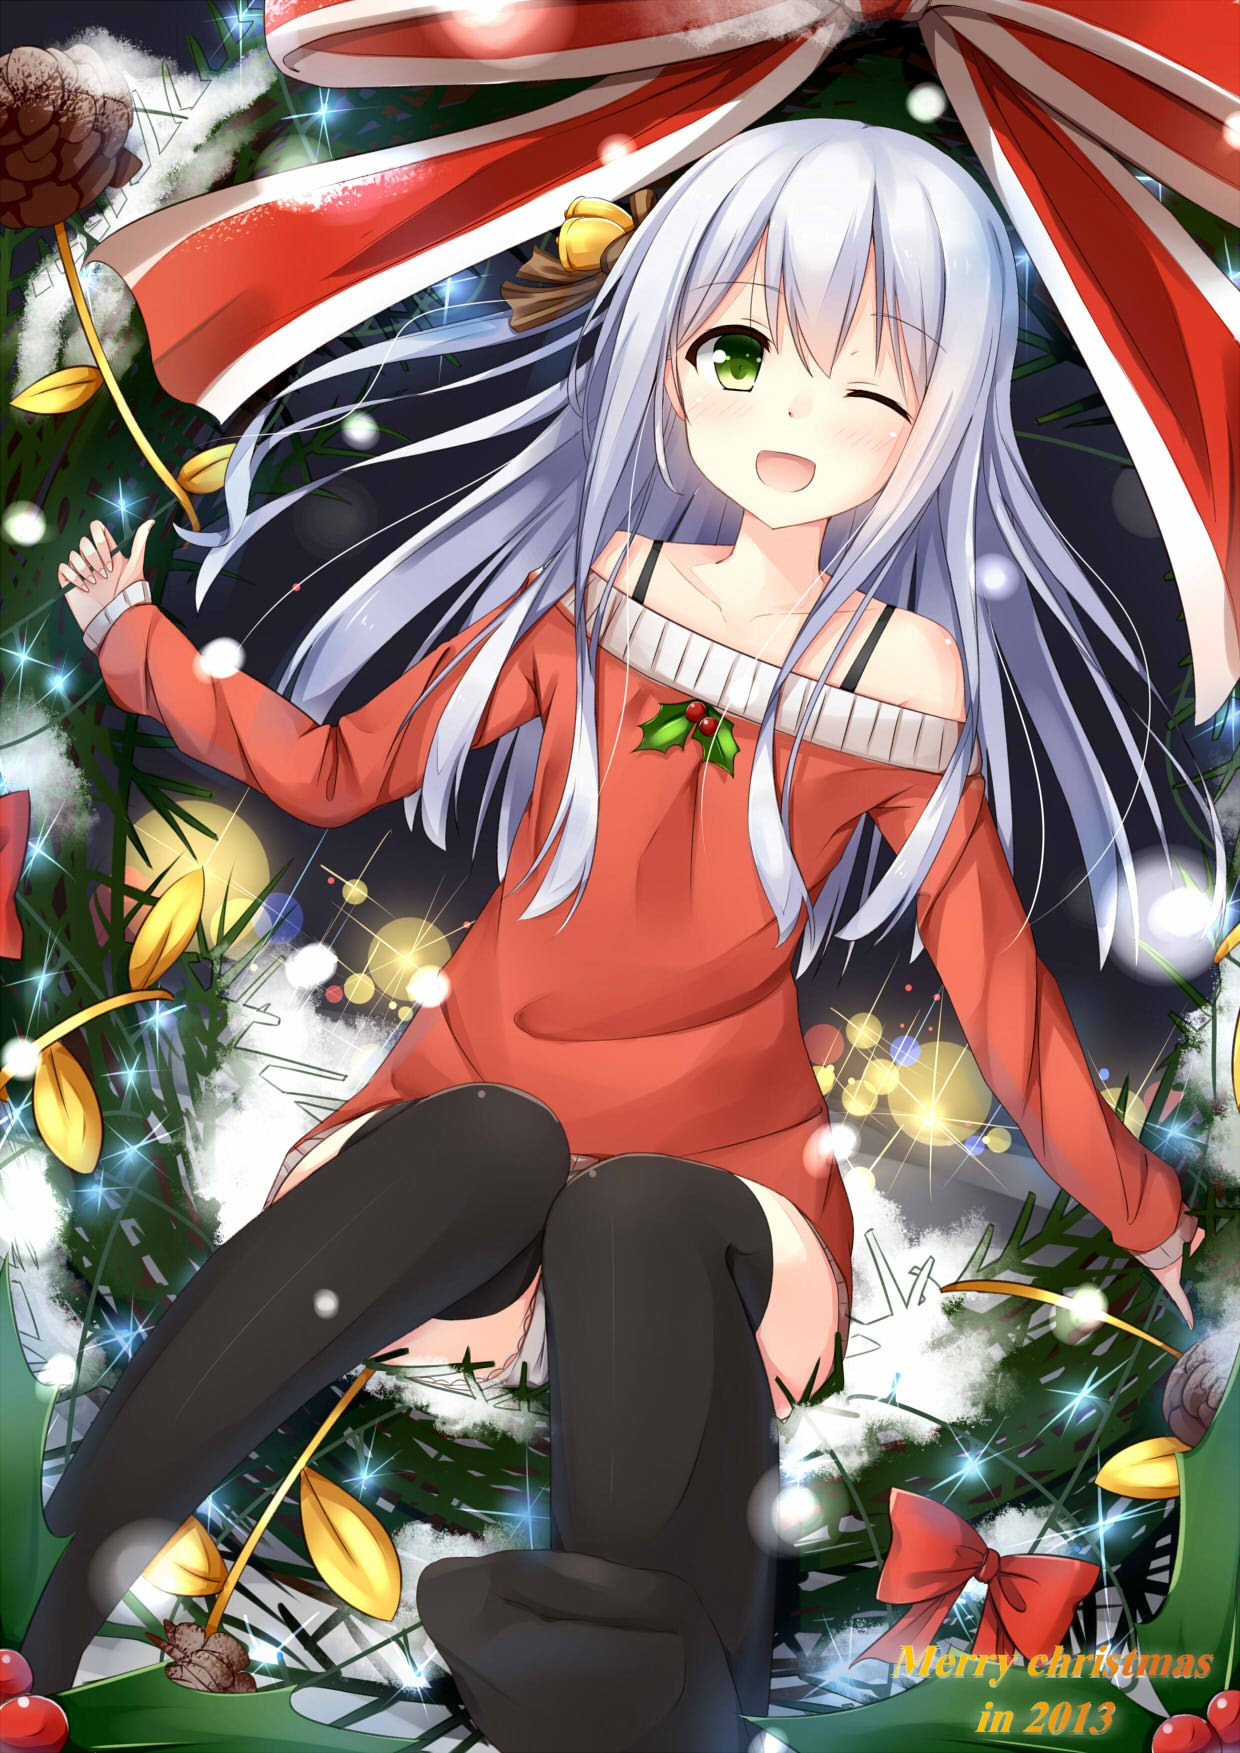纸片人正脸: (574, 103, 1029, 548)
